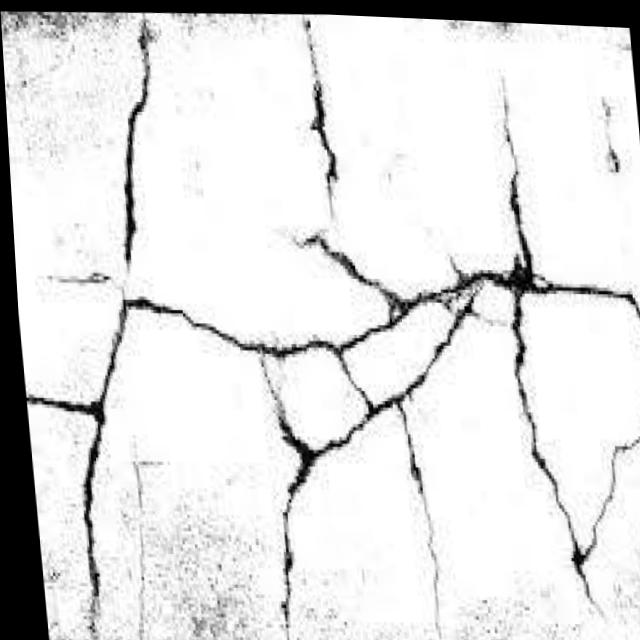Crack: (222, 192, 611, 577), (62, 260, 342, 545), (343, 234, 589, 389), (64, 48, 199, 261)
